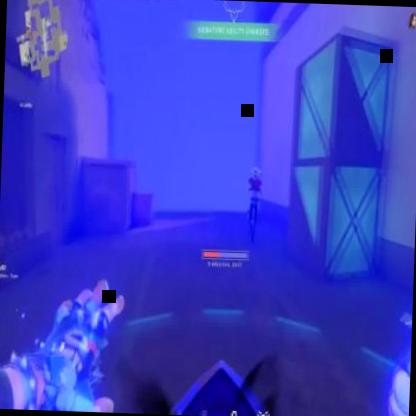enemy: (246, 165, 263, 244)
enemy_head: (252, 166, 262, 178)
